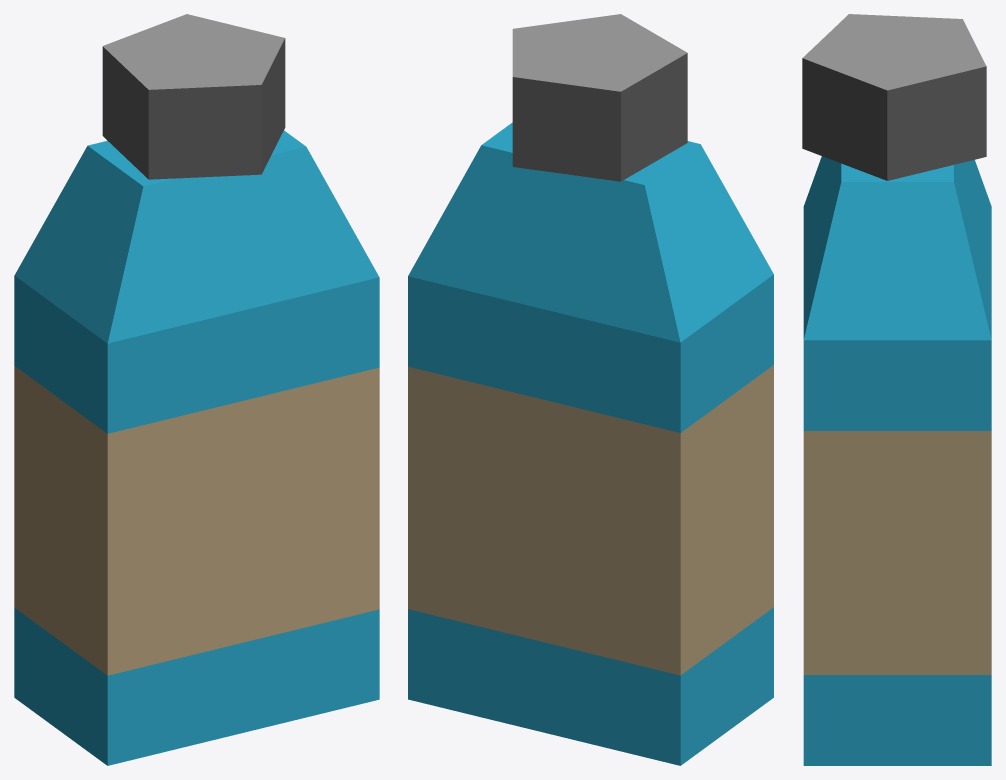
File: TB_D_Prop_Bottle_Med_C.FBX
3 renders of one model, left to right at view 1: azimuth 30°, elevation 25°; view 2: azimuth 150°, elevation 25°; view 3: azimuth 270°, elevation 25°, orthographic.
Visible parts, largest first — view 1: TB_D_Prop_Bottle_Med_C; view 2: TB_D_Prop_Bottle_Med_C; view 3: TB_D_Prop_Bottle_Med_C.
Part boxes in pixels (x1,y1,x2,y2): TB_D_Prop_Bottle_Med_C: (14, 14, 379, 765); TB_D_Prop_Bottle_Med_C: (408, 14, 773, 765); TB_D_Prop_Bottle_Med_C: (802, 14, 991, 765).
Size of the model in its own units: 0.3144 by 0.7119 by 0.1879.
